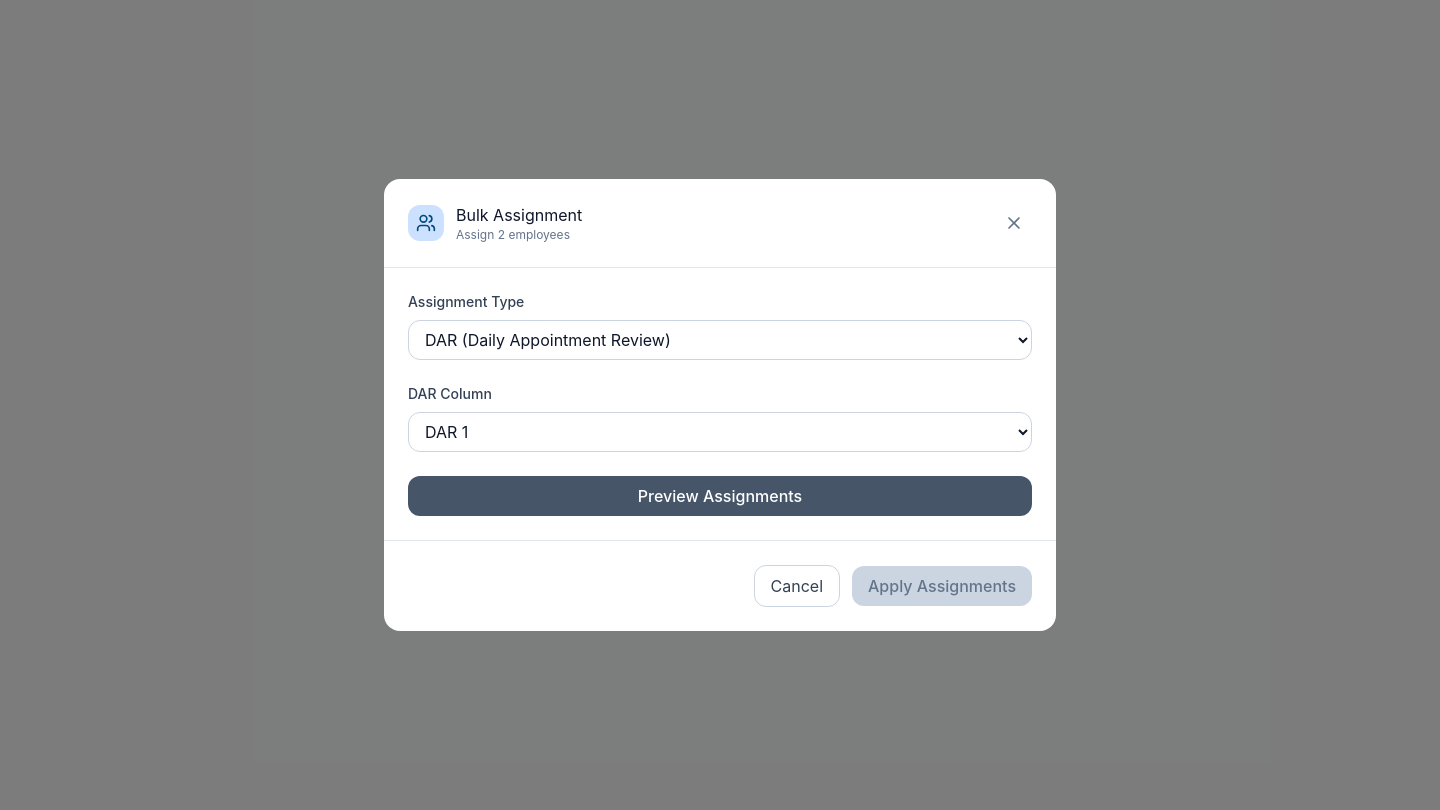
Test: BulkAssignmentModal › should generate preview on button click
Click the button "Preview Assignments".
click(720, 496)  # box [408,476,1032,516]
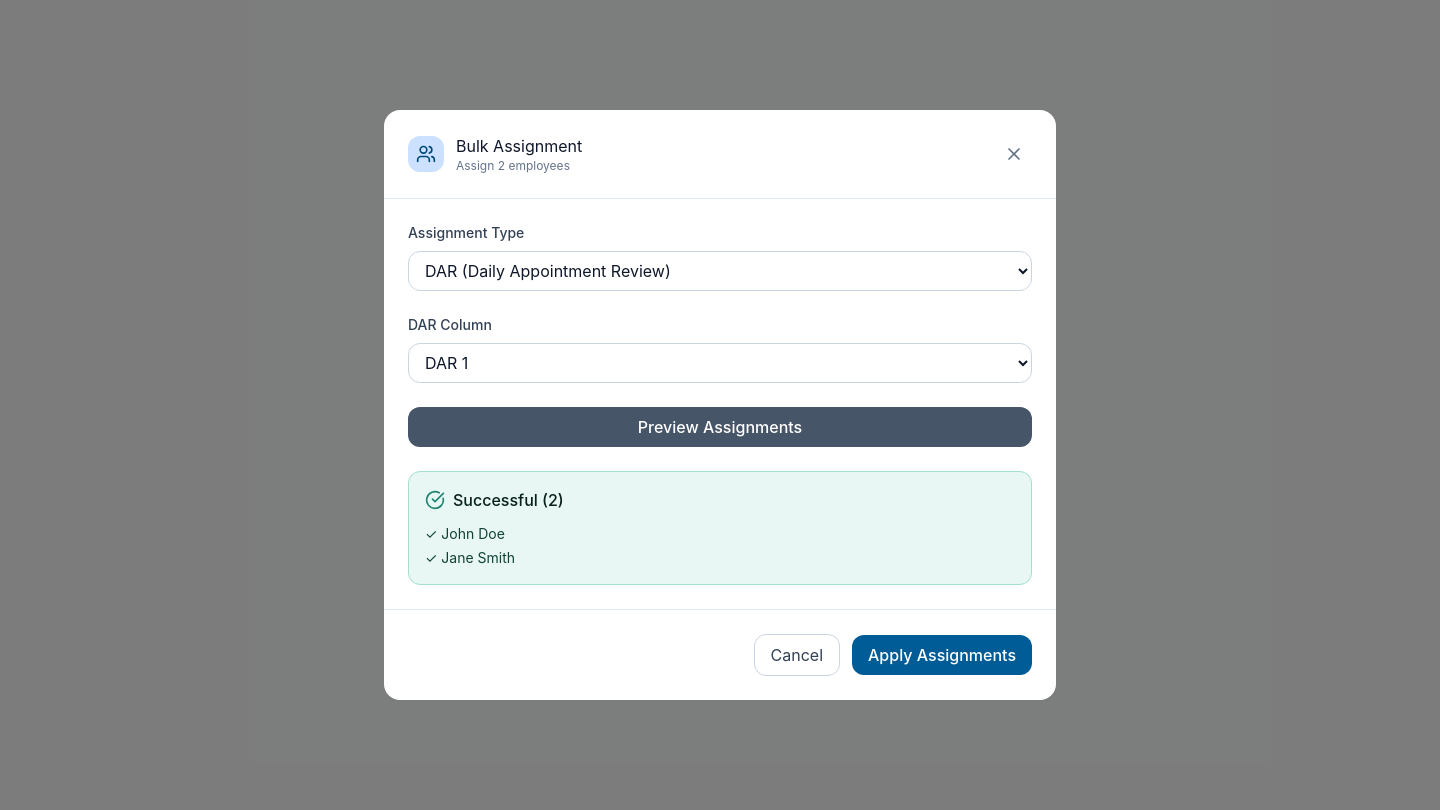
Now the heading "Successful (2)" is shown, box [453,488,564,512]
